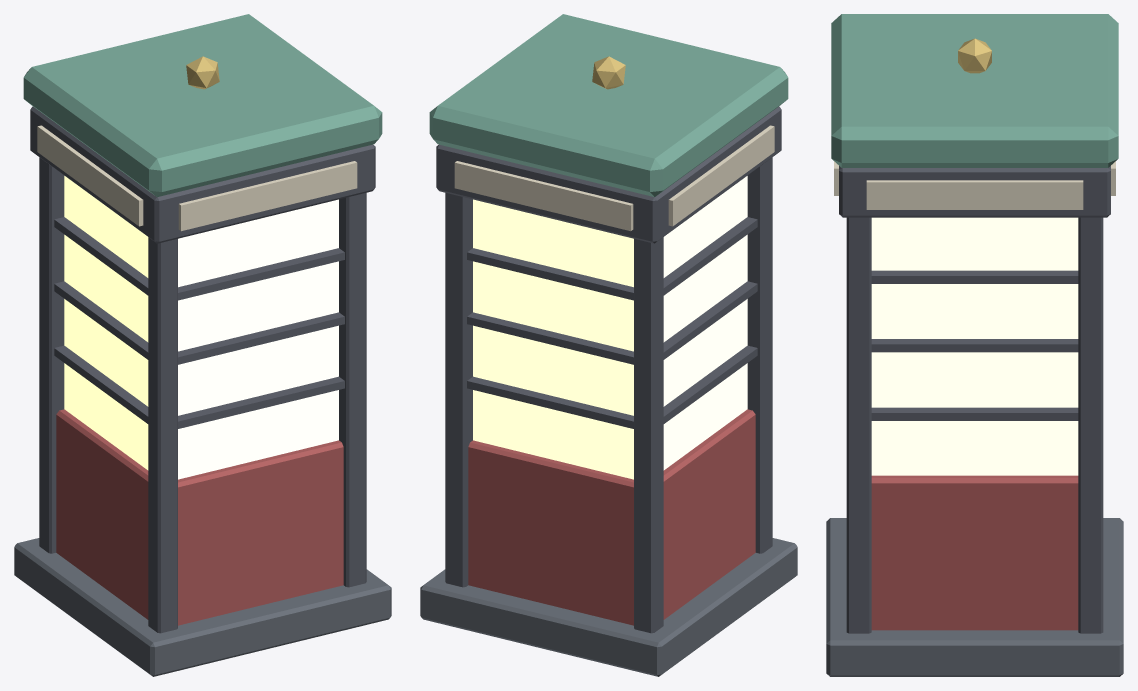
File: outdoor_phonebooth.glb
3 views of the same model, side by side, from view 1: azimuth 30°, elevation 25°; view 2: azimuth 150°, elevation 25°; view 3: azimuth 270°, elevation 25° (orthographic). The views are drawn at different scales.
Parts seen in each view (by area): view 1: Outdoor_Phonebooth; view 2: Outdoor_Phonebooth; view 3: Outdoor_Phonebooth.
Boxes of the visible parts, bbox=[...] form: Outdoor_Phonebooth: bbox=[14, 14, 391, 676]; Outdoor_Phonebooth: bbox=[420, 14, 797, 676]; Outdoor_Phonebooth: bbox=[826, 14, 1123, 676].
Bounding box in the file's own units: 1.51 × 3.24 × 1.51.
